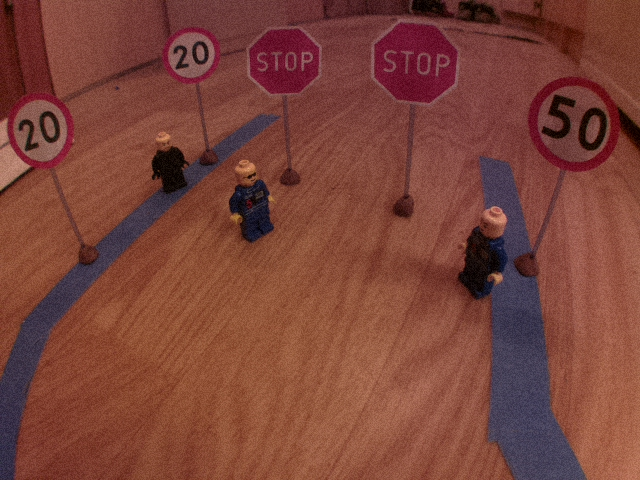LEGO_person: (456, 203, 511, 301), (226, 158, 279, 244), (150, 129, 191, 193)
ogr_20: (6, 90, 76, 172), (160, 24, 223, 85)
ogr_50: (525, 75, 622, 174)
stop: (368, 17, 463, 108), (244, 23, 324, 99)
